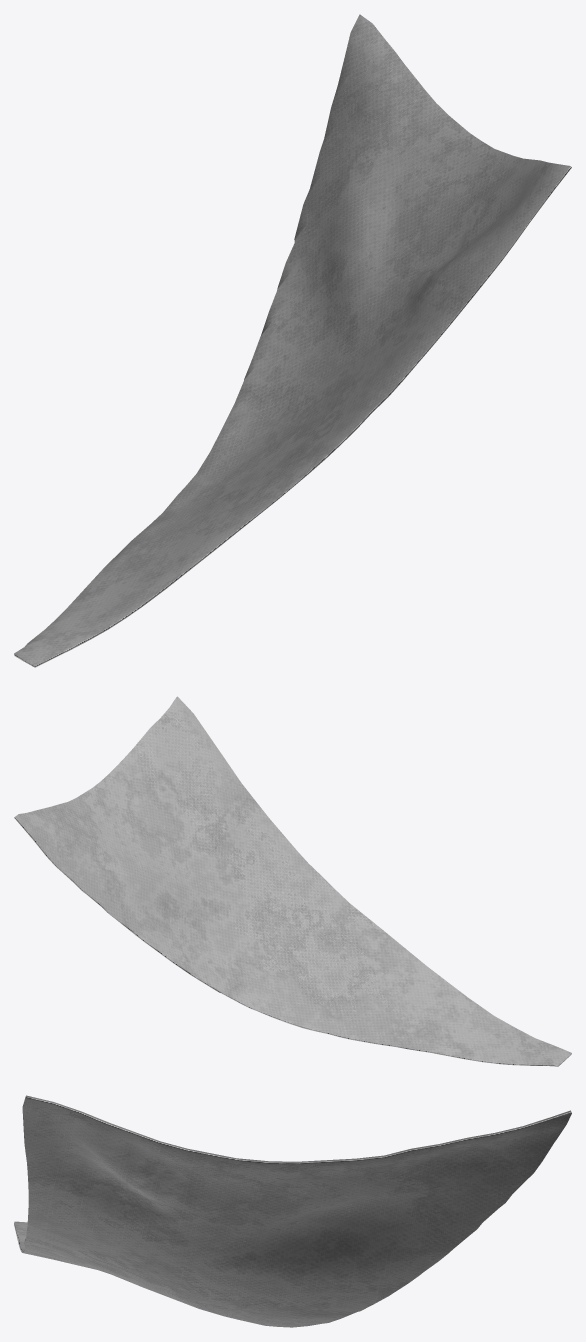
File: SM_Fabric-TavernRainCover.fbx
3 views of the same model, one above another, from view 1: azimuth 30°, elevation 25°; view 2: azimuth 150°, elevation 25°; view 3: azimuth 270°, elevation 25° (orthographic). The views are drawn at different scales.
Visible parts, largest first — view 1: SM_Fabric-TavernRainCover_LOD0; view 2: SM_Fabric-TavernRainCover_LOD0; view 3: SM_Fabric-TavernRainCover_LOD0.
Part boxes in pixels (x1,y1,x2,y2): SM_Fabric-TavernRainCover_LOD0: [14, 14, 571, 667]; SM_Fabric-TavernRainCover_LOD0: [14, 696, 571, 1066]; SM_Fabric-TavernRainCover_LOD0: [14, 1095, 571, 1327].
Size of the model in its own units: 467 by 325 by 297.
Materials: 1 (1 with a texture image).
